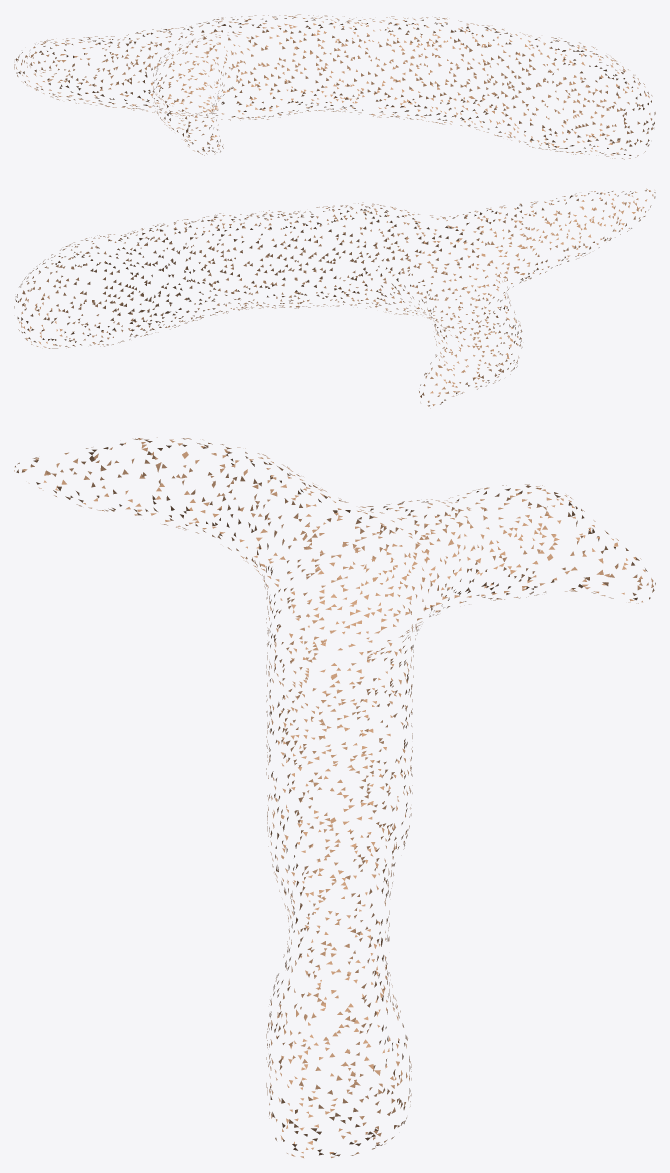
File: morph_005.glb
The picture shows the model from 3 angles, top to bottom: view 1: azimuth 30°, elevation 25°; view 2: azimuth 150°, elevation 25°; view 3: azimuth 270°, elevation 25°; orthographic projection. The views are drawn at different scales.
Size of the model in its own units: 121 by 47.57 by 77.84.
